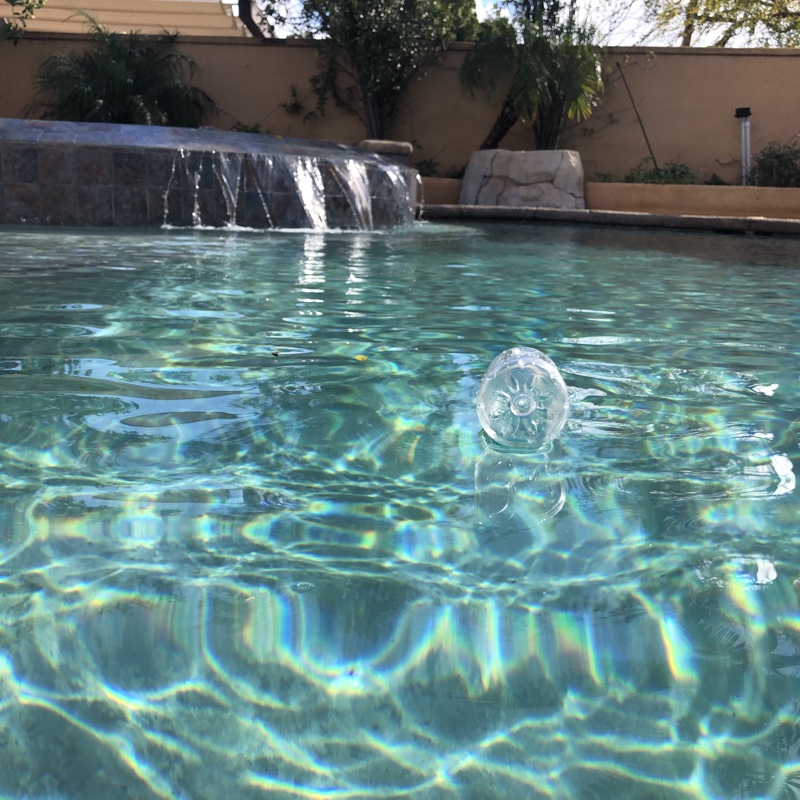Plastic Bottle: (471, 342, 577, 460)
